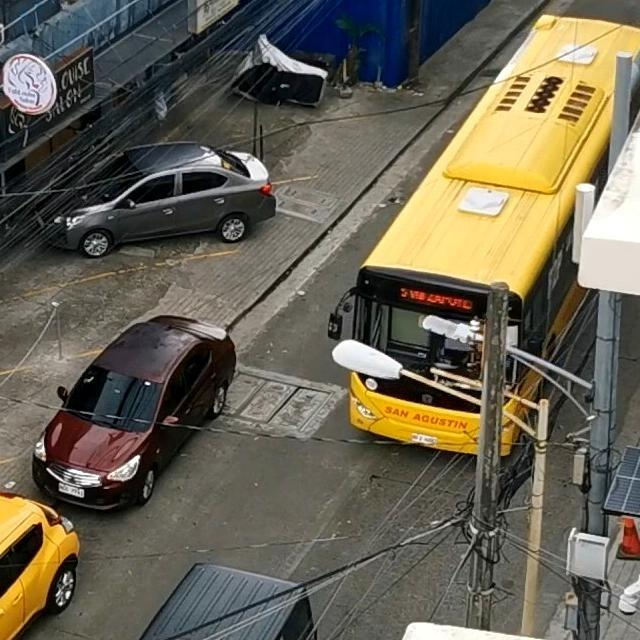Car: (32, 317, 240, 507), (41, 154, 272, 261), (80, 564, 312, 640)
